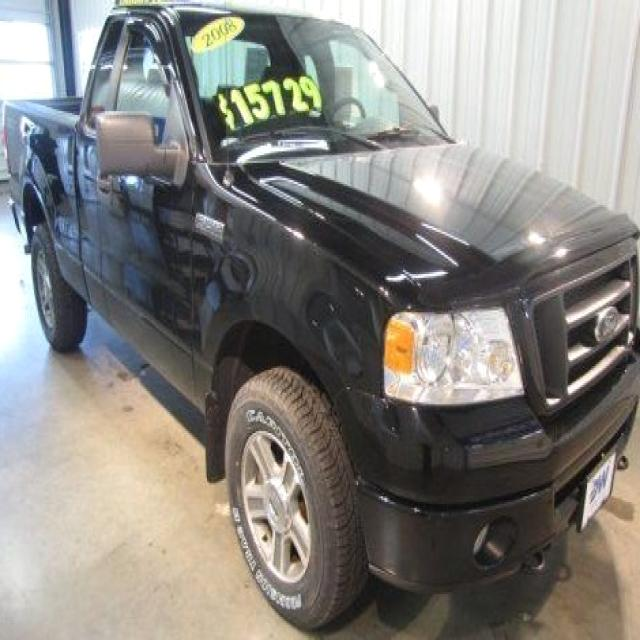CMT: (6, 13, 638, 600)
